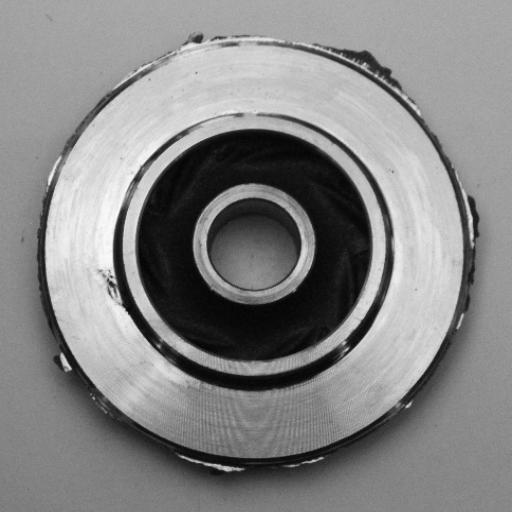casting_with_burr: (37, 28, 483, 479)
crack: (94, 259, 135, 320)
scratch: (185, 101, 266, 133)
